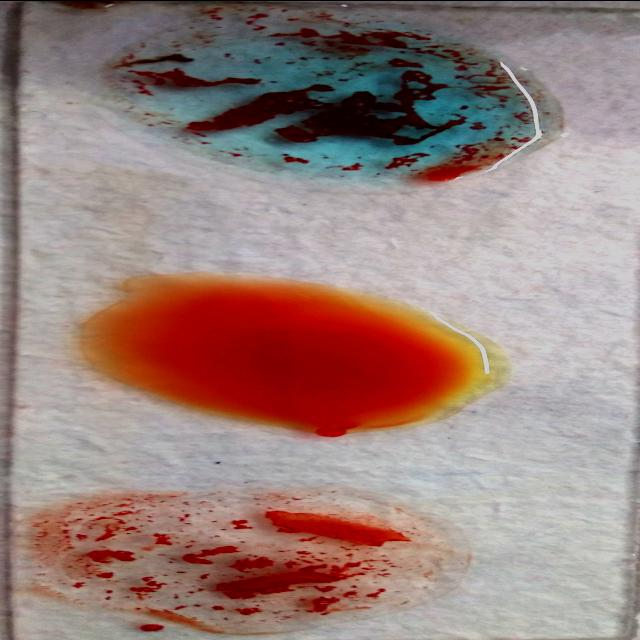A: (111, 21, 569, 170)
D: (29, 492, 443, 616)
